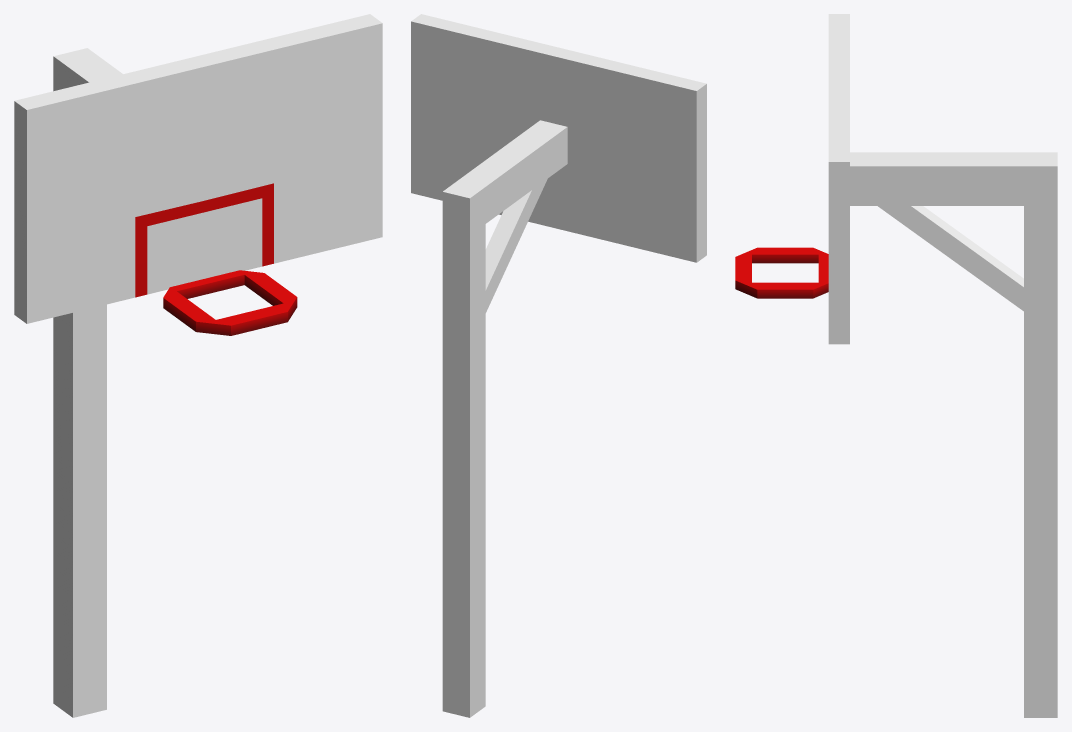
Rendered from basketball_court_02.fbx.
3 renders of one model, left to right at view 1: azimuth 30°, elevation 25°; view 2: azimuth 150°, elevation 25°; view 3: azimuth 270°, elevation 25°, orthographic. The views are drawn at different scales.
Visible parts, largest first — view 1: Cube.001; view 2: Cube.001; view 3: Cube.001.
Boxes of the visible parts, <box> form: Cube.001: <box>14,14,382,717</box>; Cube.001: <box>411,14,706,717</box>; Cube.001: <box>735,14,1057,717</box>.
Bounding box in the file's own units: 226 × 443 × 208.
